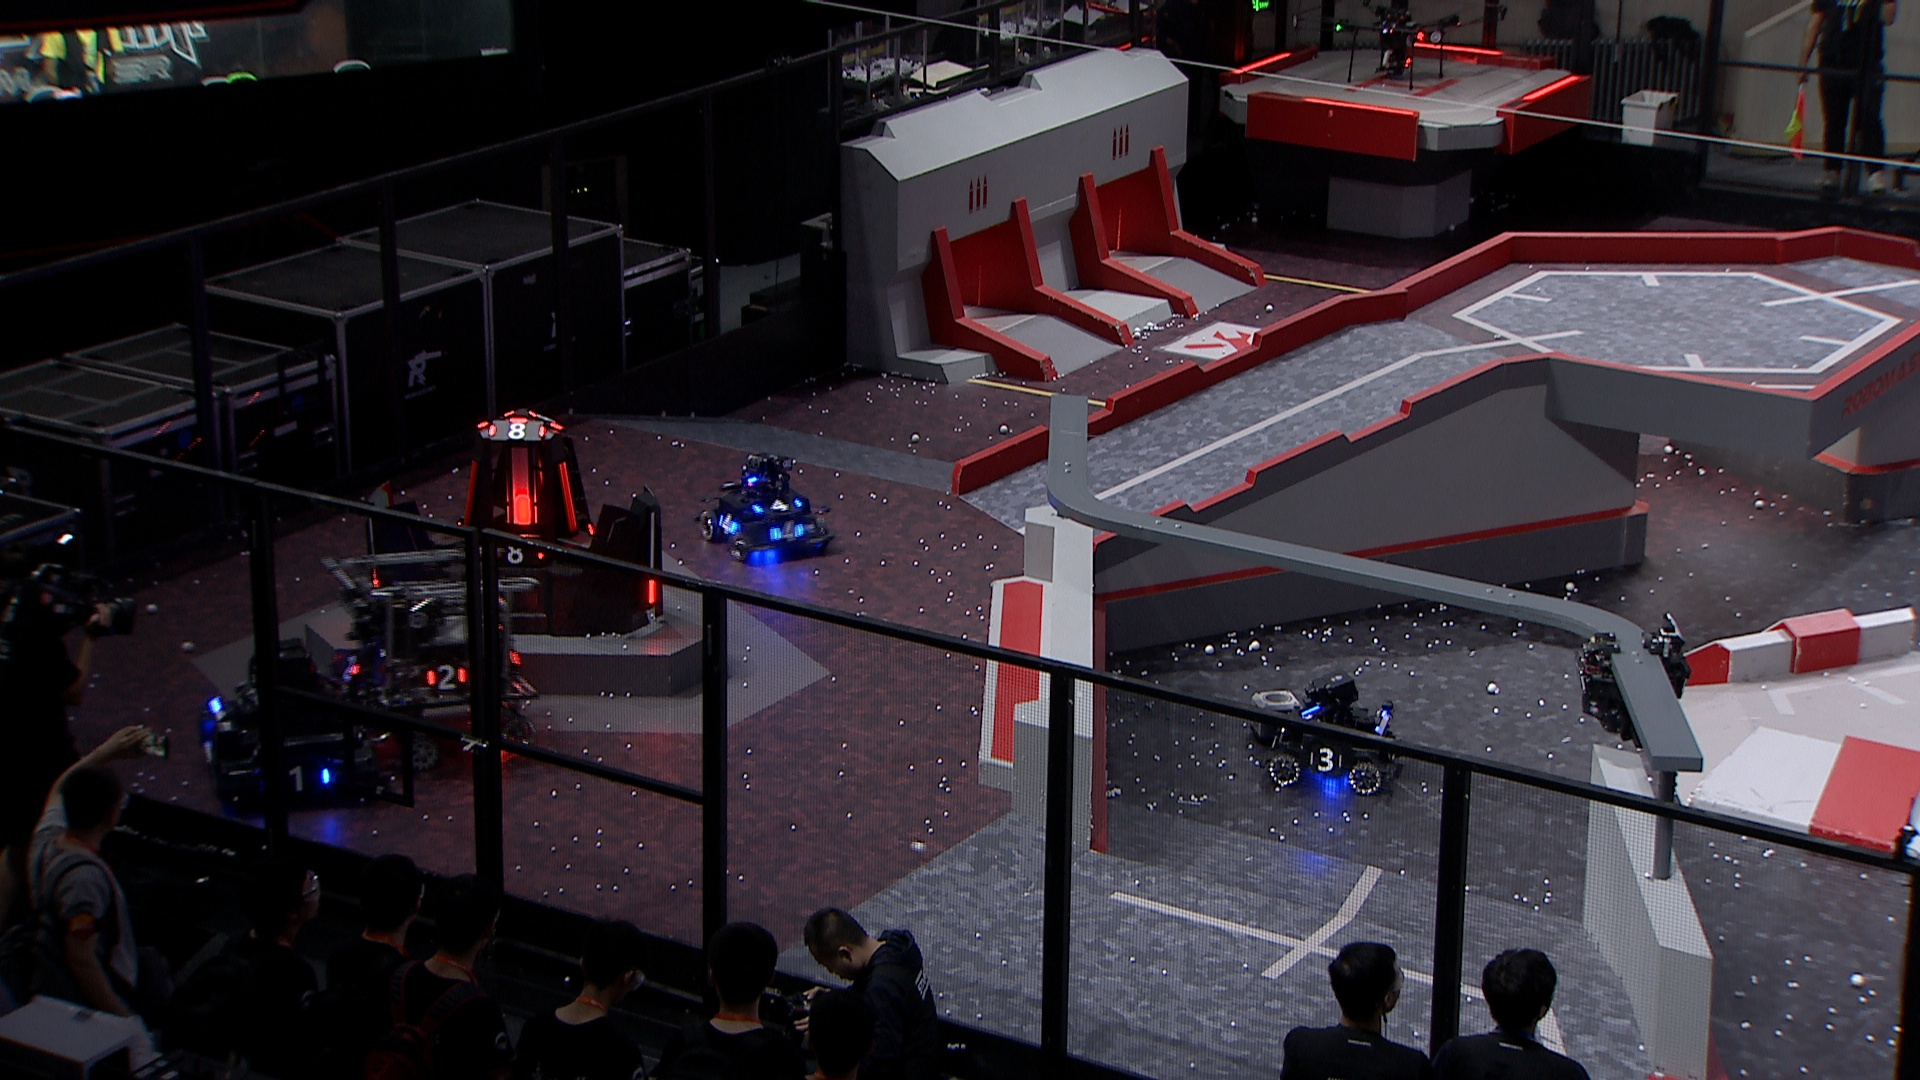armor: (269, 757, 335, 800), (502, 463, 539, 533), (455, 458, 484, 527), (555, 462, 582, 531), (483, 419, 547, 444), (491, 541, 545, 570), (419, 661, 467, 692), (749, 493, 804, 518), (1304, 744, 1346, 773), (769, 517, 806, 543), (339, 651, 363, 684), (717, 509, 745, 537), (645, 576, 659, 605)
base: (368, 406, 667, 633)
car: (295, 549, 537, 773), (191, 633, 385, 822), (1269, 671, 1408, 796), (698, 450, 831, 562)
watcher: (1575, 609, 1693, 754)
